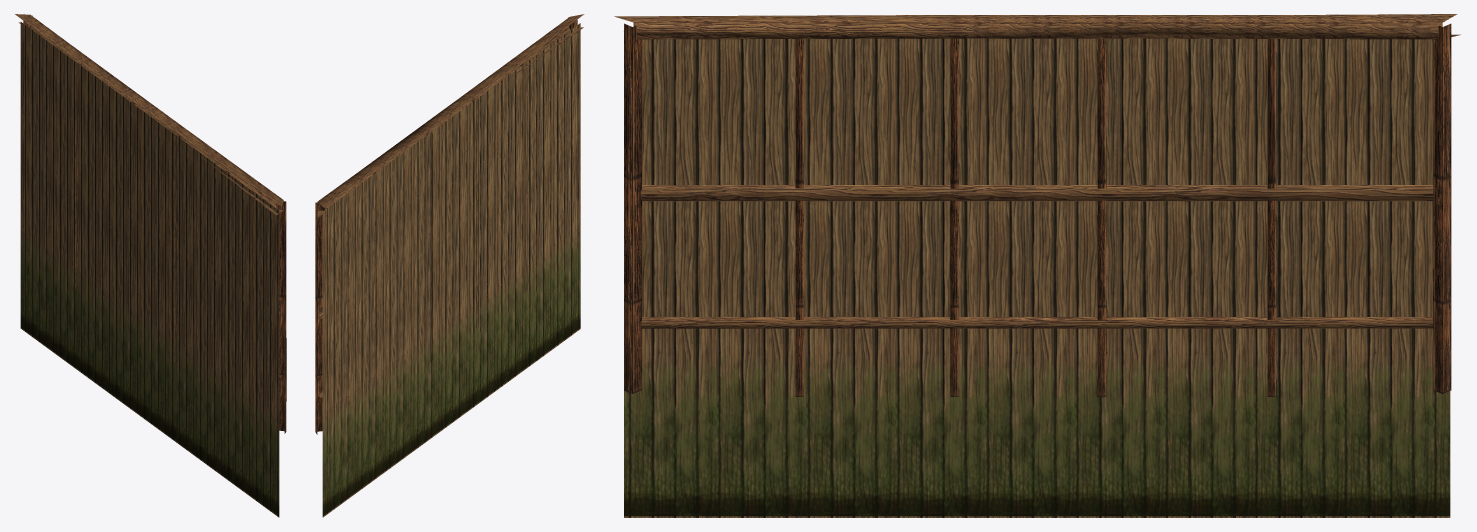
The model's file is LAKETOWN_WAREHOUSE2_PS_WH2_PLATROOM3737__GX.fbx.
3 views of the same model, side by side, from view 1: azimuth 30°, elevation 25°; view 2: azimuth 150°, elevation 25°; view 3: azimuth 270°, elevation 25° (orthographic). The views are drawn at different scales.
Visible parts, largest first — view 1: LAKETOWN_WAREHOUSE2_PS_WH2_PLATROOM3737__GX; view 2: LAKETOWN_WAREHOUSE2_PS_WH2_PLATROOM3737__GX; view 3: LAKETOWN_WAREHOUSE2_PS_WH2_PLATROOM3737__GX.
Boxes of the visible parts, <box> form: LAKETOWN_WAREHOUSE2_PS_WH2_PLATROOM3737__GX: <box>15,14,286,517</box>; LAKETOWN_WAREHOUSE2_PS_WH2_PLATROOM3737__GX: <box>315,14,584,517</box>; LAKETOWN_WAREHOUSE2_PS_WH2_PLATROOM3737__GX: <box>614,14,1460,517</box>.
Size of the model in its own units: 6905 by 153127 by 235243.
5 materials, 5 textured.
